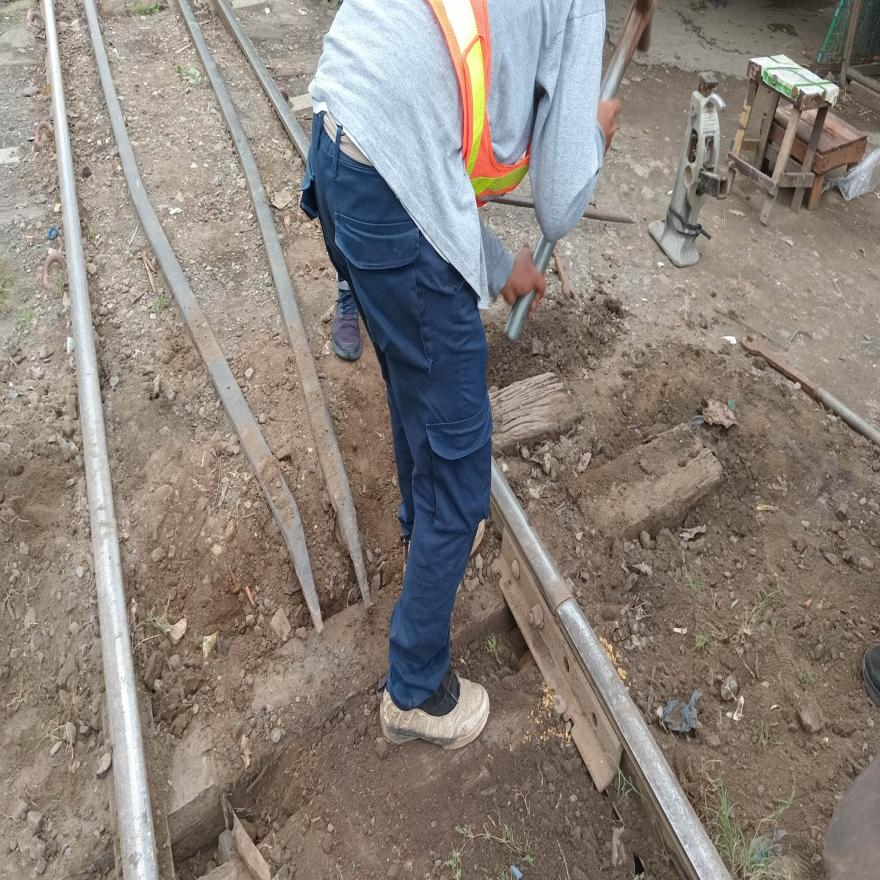railway-gap: (538, 564, 587, 636)
